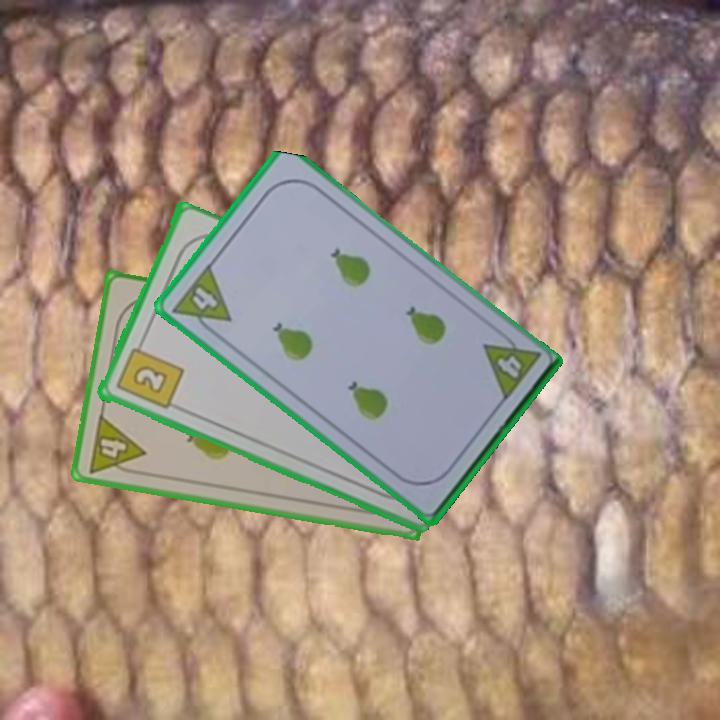2b: (112, 337, 186, 413)
4p: (168, 260, 234, 341), (479, 325, 542, 405), (84, 411, 148, 479)
